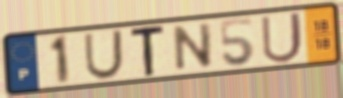1: (49, 33, 74, 88)
5: (218, 15, 258, 69)
N: (172, 21, 214, 74)
T: (129, 22, 167, 79)
U: (259, 10, 305, 65), (82, 28, 125, 81)
